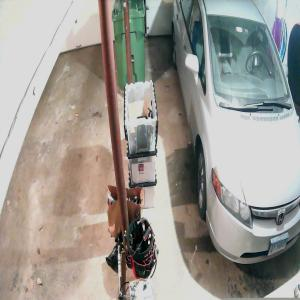garbage bin: (112, 1, 146, 90)
honda civic: (171, 0, 299, 262)
tool bucket: (126, 215, 160, 282)
